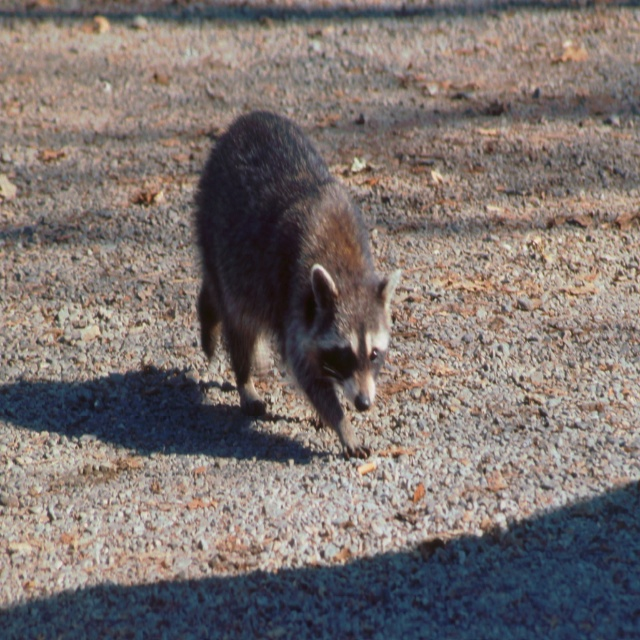Raccoon: (189, 113, 399, 460)
